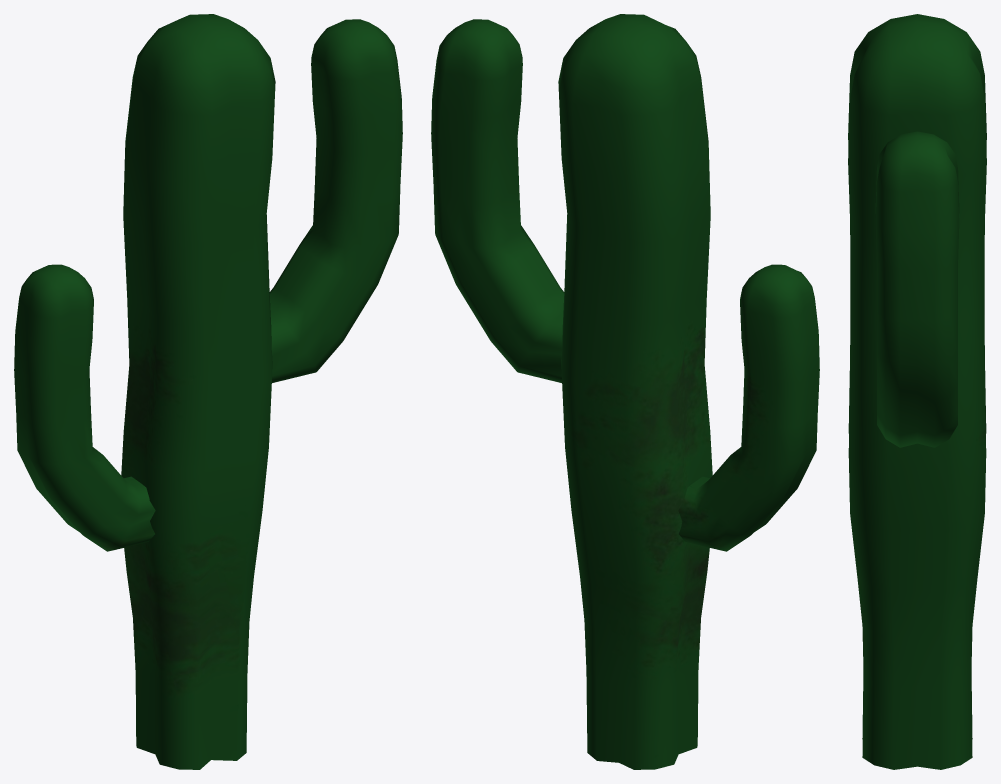
File: Cactus_1.fbx
The picture shows the model from 3 angles, left to right: view 1: azimuth 30°, elevation 25°; view 2: azimuth 150°, elevation 25°; view 3: azimuth 270°, elevation 25°; orthographic projection.
Parts seen in each view (by area): view 1: g_Cactus_1__1_; view 2: g_Cactus_1__1_; view 3: g_Cactus_1__1_.
Boxes of the visible parts, x1,y1,x2,y2 form: g_Cactus_1__1_: [14, 14, 402, 769]; g_Cactus_1__1_: [431, 14, 819, 769]; g_Cactus_1__1_: [848, 14, 986, 769].
Bounding box in the file's own units: 377 × 697 × 120.
